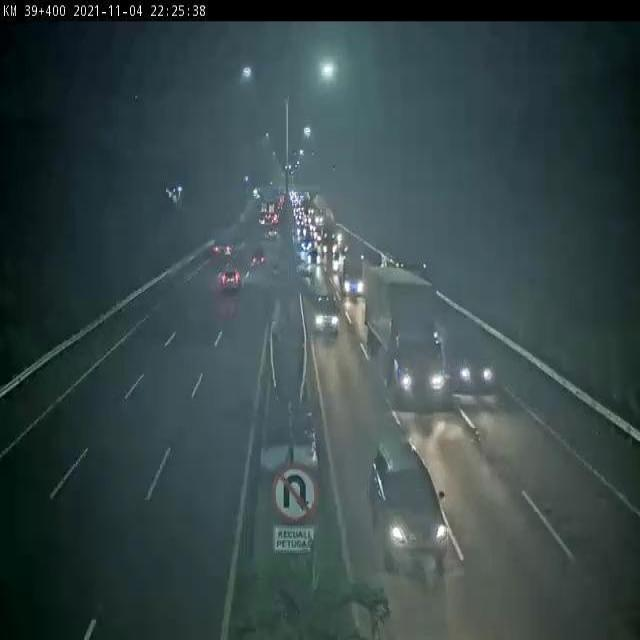Car: (369, 443, 450, 572), (312, 294, 340, 337), (218, 264, 240, 290), (251, 252, 266, 266)
Truck: (364, 266, 447, 404), (436, 313, 494, 392), (340, 257, 364, 297), (211, 227, 241, 257), (2, 497, 3, 501)
